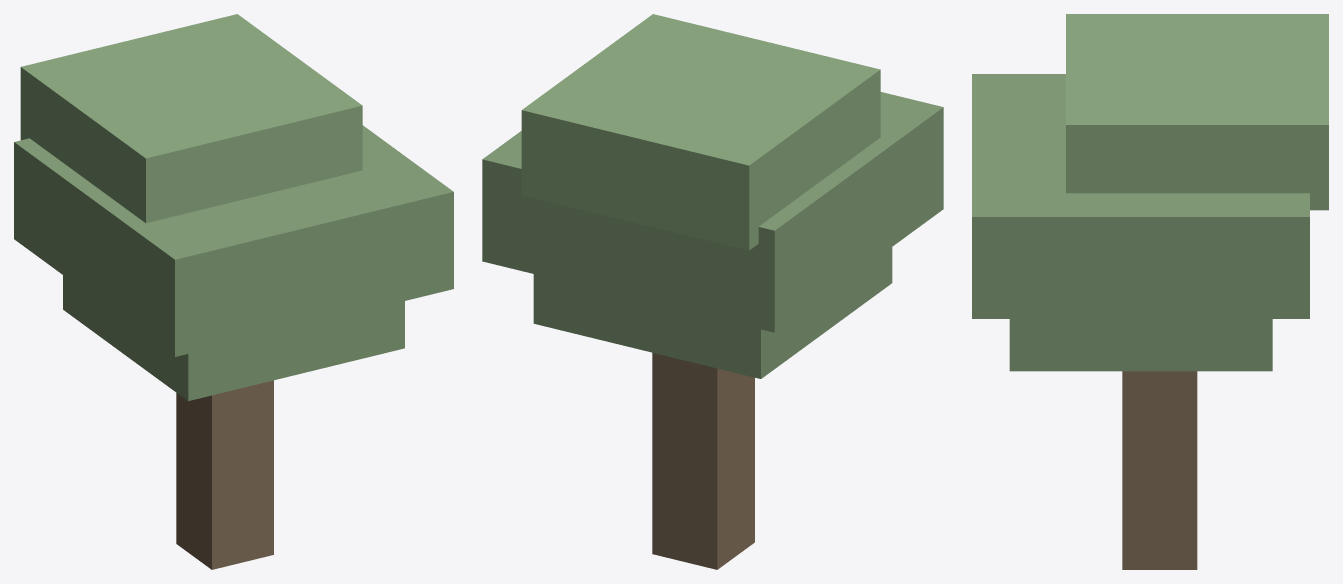
File: arbol_joven_03.glb
3 renders of one model, left to right at view 1: azimuth 30°, elevation 25°; view 2: azimuth 150°, elevation 25°; view 3: azimuth 270°, elevation 25°, orthographic. The views are drawn at different scales.
Visible parts, largest first — view 1: arbol_joven_03; view 2: arbol_joven_03; view 3: arbol_joven_03.
Part boxes in pixels (<box>): arbol_joven_03: <box>14,14,453,569</box>; arbol_joven_03: <box>482,14,943,569</box>; arbol_joven_03: <box>972,14,1328,569</box>.
Size of the model in its own units: 1.8 by 2.8 by 1.9.
